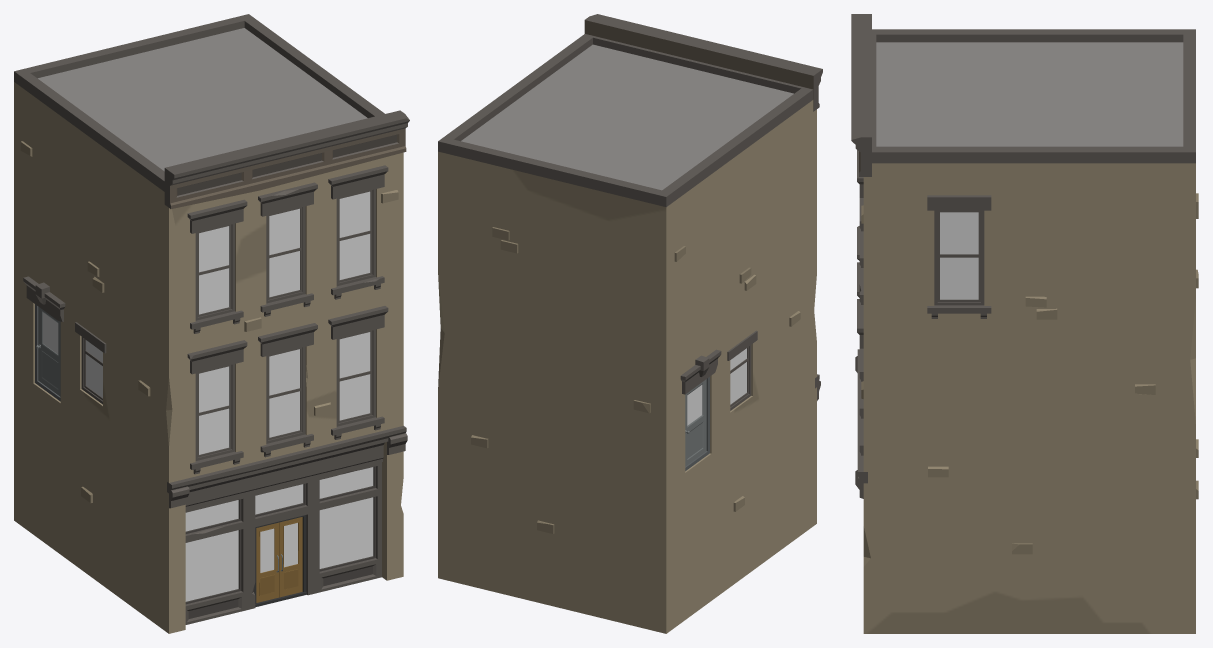
The model's file is SM_Bldg_City_Shop_05.fbx.
3 views of the same model, side by side, from view 1: azimuth 30°, elevation 25°; view 2: azimuth 150°, elevation 25°; view 3: azimuth 270°, elevation 25° (orthographic). The views are drawn at different scales.
Parts seen in each view (by area): view 1: SM_Bldg_City_Shop_05, SM_Bldg_City_Shop_05_Glass; view 2: SM_Bldg_City_Shop_05, SM_Bldg_City_Shop_05_Glass; view 3: SM_Bldg_City_Shop_05, SM_Bldg_City_Shop_05_Glass.
Boxes of the visible parts, box(x1,y1,x2,y2) form: SM_Bldg_City_Shop_05: box(14, 14, 409, 633); SM_Bldg_City_Shop_05_Glass: box(86, 191, 373, 601); SM_Bldg_City_Shop_05: box(438, 14, 822, 633); SM_Bldg_City_Shop_05_Glass: box(730, 348, 746, 404); SM_Bldg_City_Shop_05: box(851, 14, 1198, 633); SM_Bldg_City_Shop_05_Glass: box(940, 212, 978, 299).
Bounding box in the file's own units: 735 × 1320 × 836.
